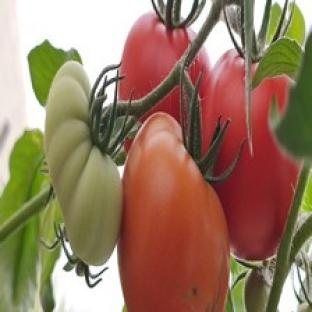Tomato: (119, 112, 229, 311), (45, 62, 122, 264), (215, 77, 299, 260), (119, 13, 194, 100), (244, 268, 270, 311)
